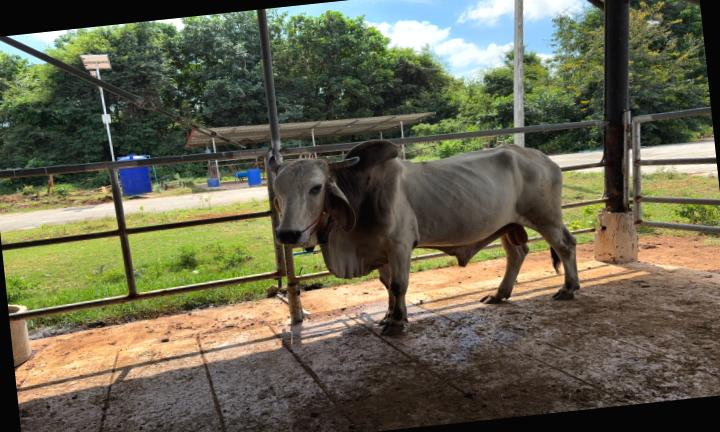Brahman: (267, 140, 579, 335)
